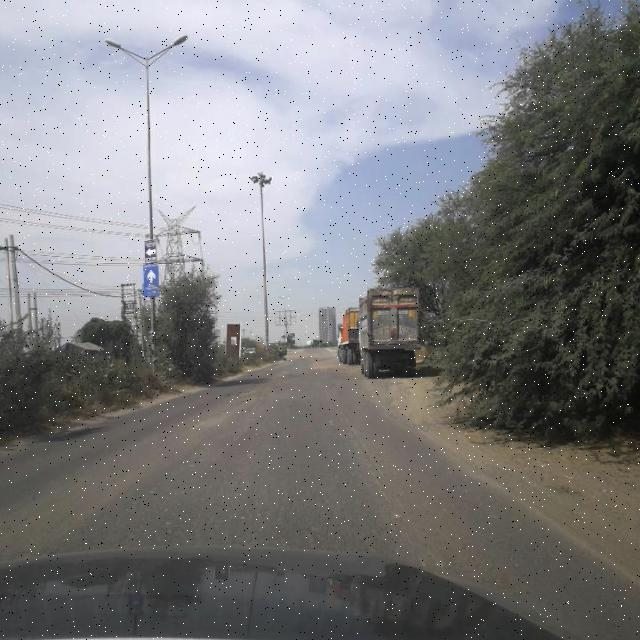D00: (334, 404, 412, 534)
D20: (136, 460, 391, 543)
D40: (218, 383, 271, 400)
